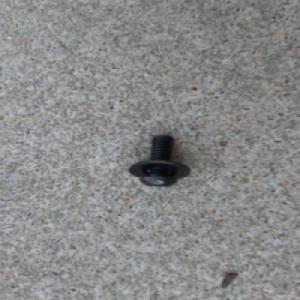BoltWasher: (127, 133, 191, 187)
